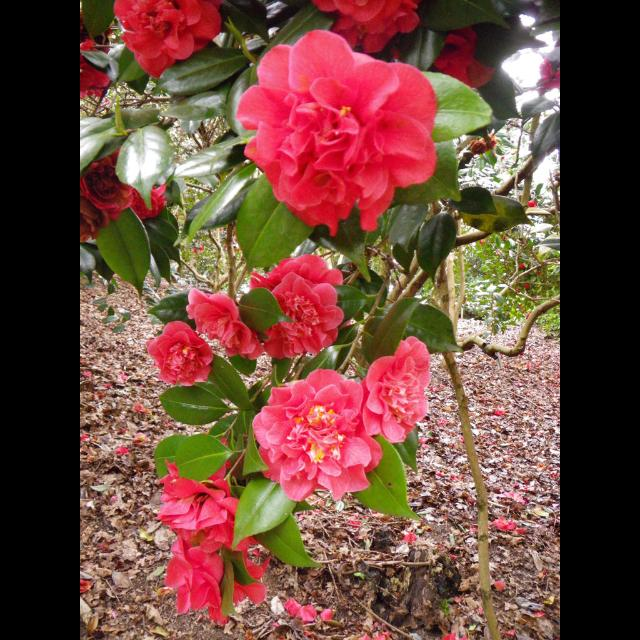Flower: (238, 29, 437, 230), (250, 367, 382, 499), (152, 436, 254, 554), (158, 538, 274, 630), (110, 0, 224, 81), (361, 335, 433, 443), (260, 271, 342, 361), (183, 288, 265, 362), (146, 319, 212, 385), (329, 11, 421, 57), (430, 27, 496, 89), (246, 253, 342, 293), (80, 155, 138, 221), (80, 38, 114, 106), (310, 0, 414, 20), (130, 179, 166, 223), (80, 190, 104, 244), (536, 58, 560, 94), (106, 145, 122, 163)
